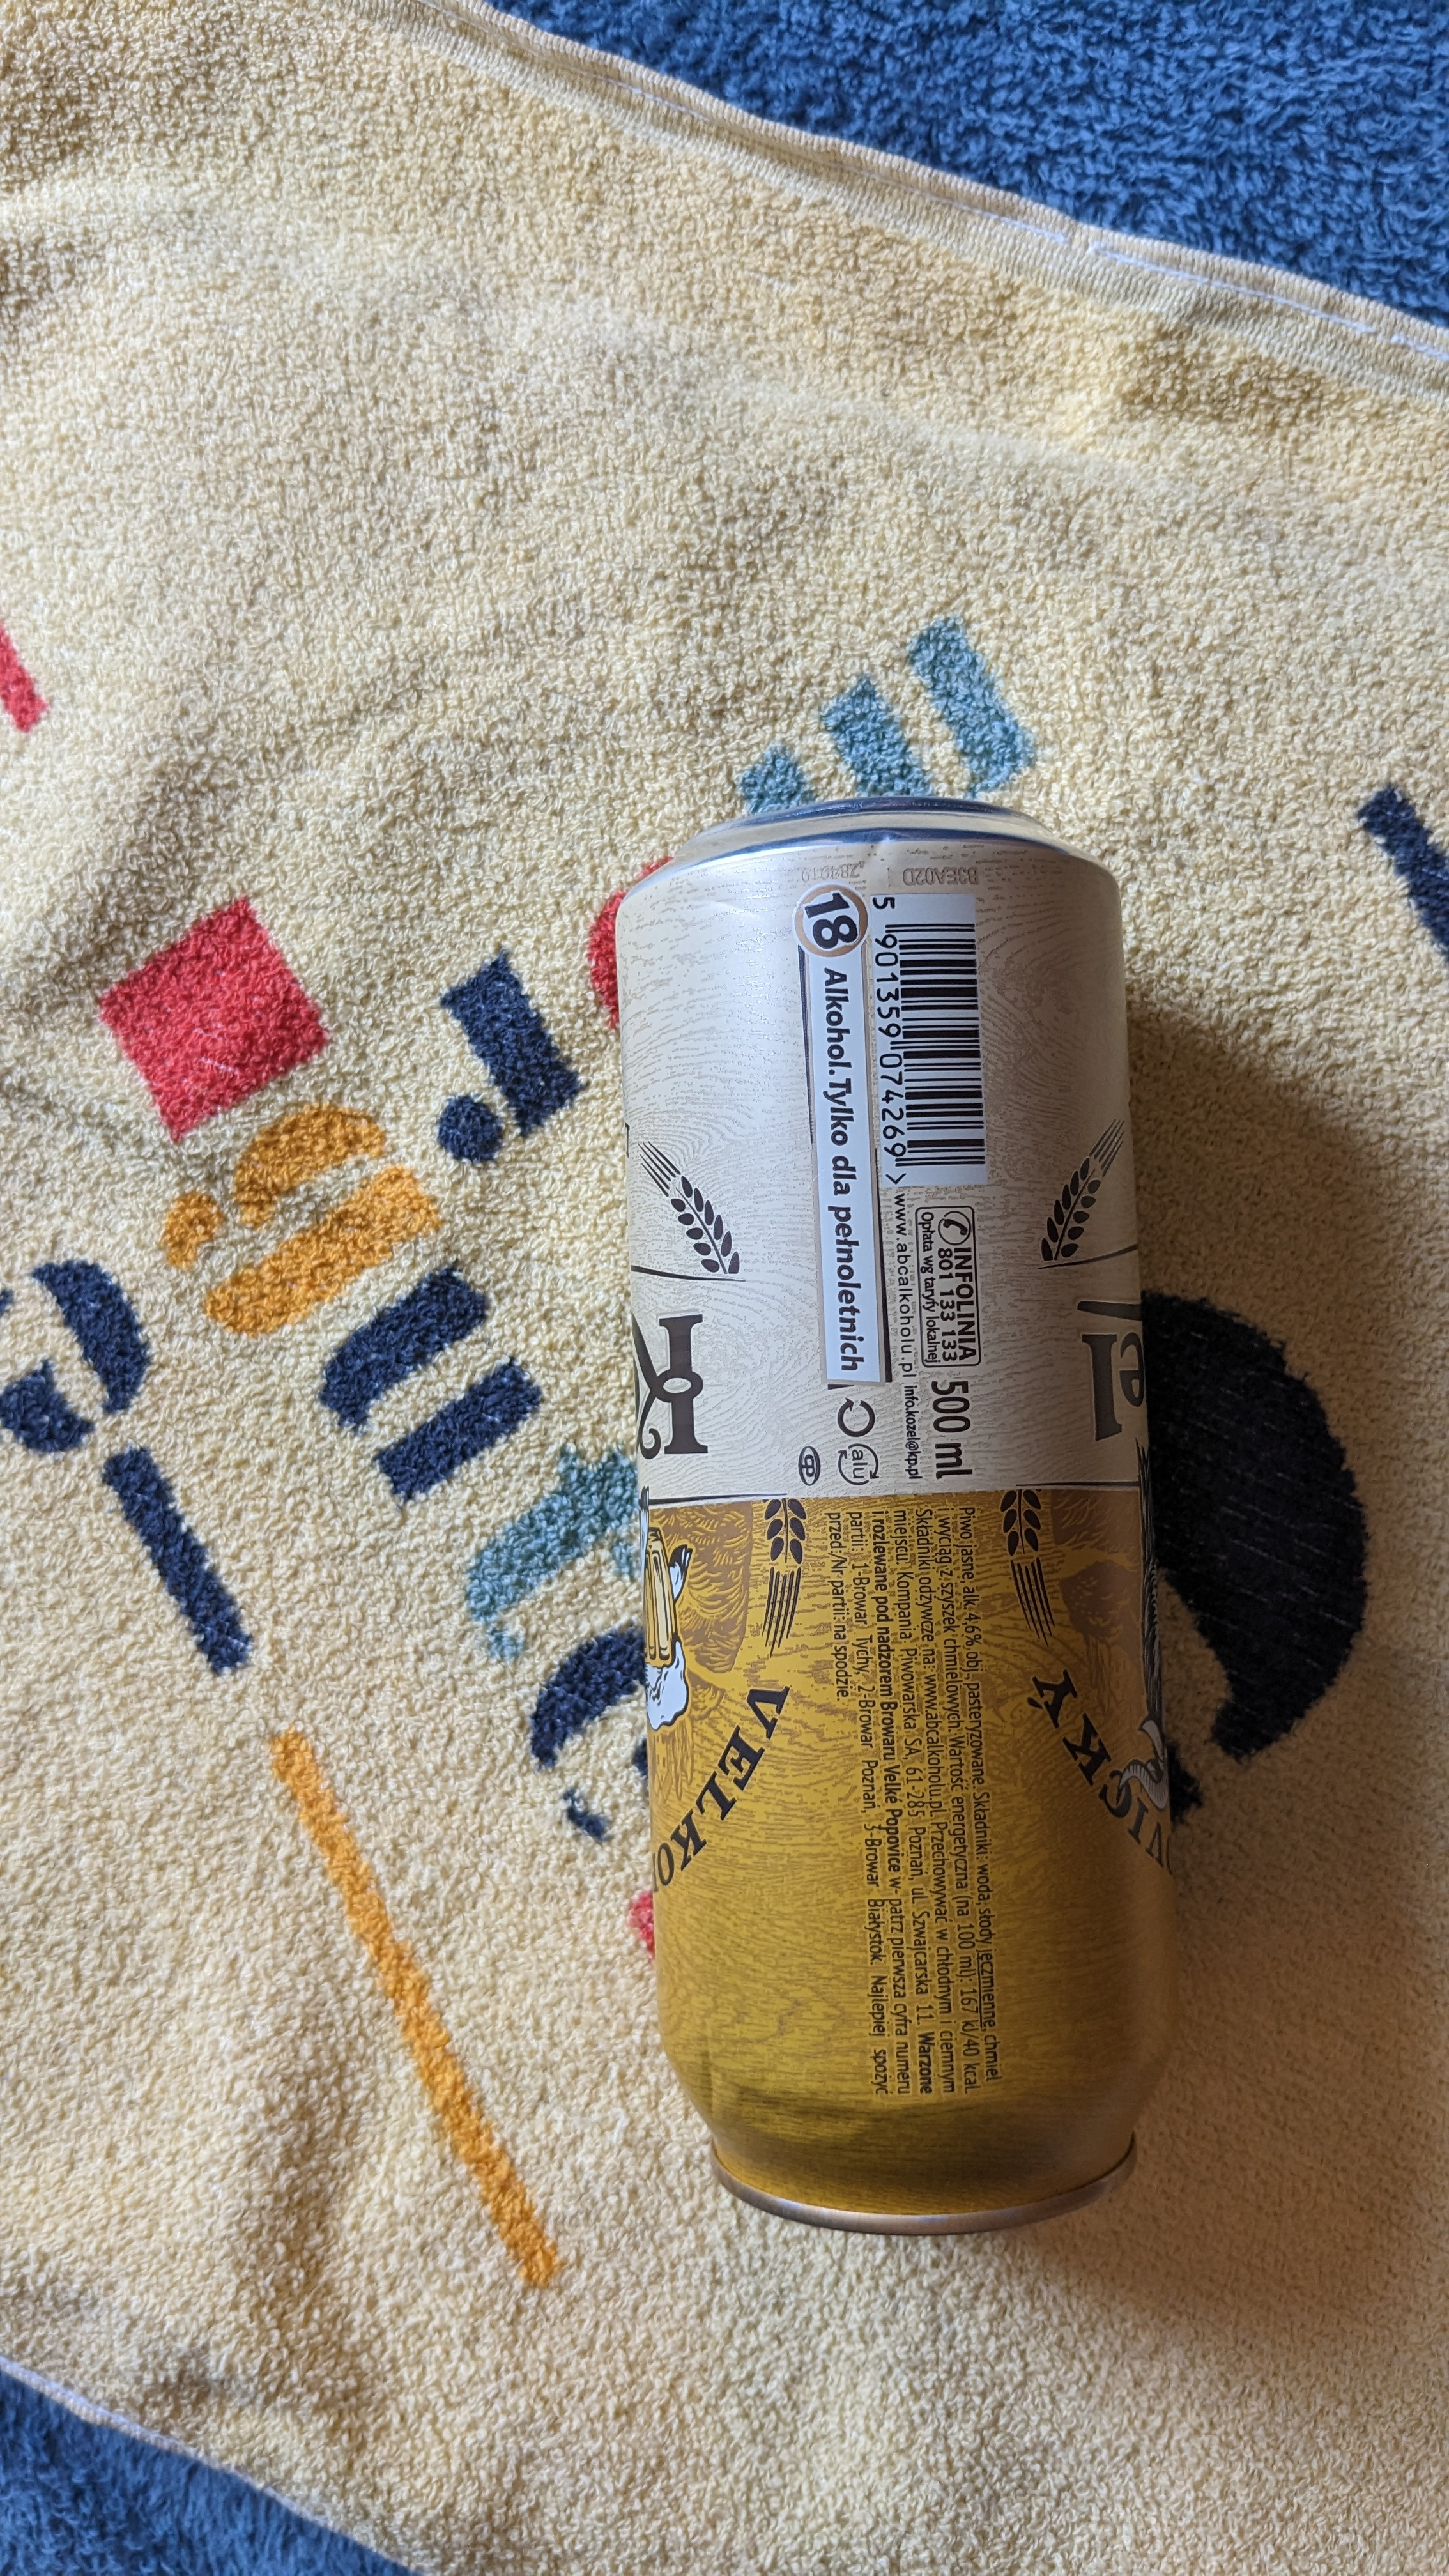kozel: (600, 778, 1205, 2288)
